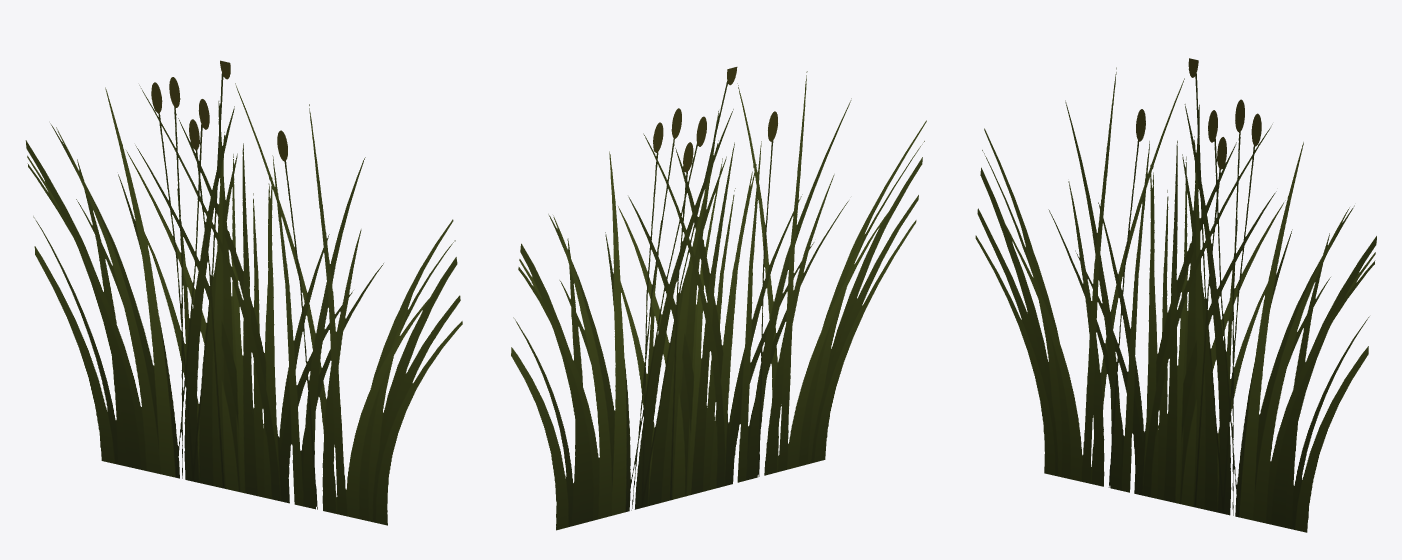
File: tall_grass_1_burnt3.glb
3 views of the same model, side by side, from view 1: azimuth 90°, elevation 25°; view 2: azimuth 150°, elevation 25°; view 3: azimuth 270°, elevation 25° (orthographic). The views are drawn at different scales.
Parts seen in each view (by area): view 1: tall_grass_1_burnt3; view 2: tall_grass_1_burnt3; view 3: tall_grass_1_burnt3.
Boxes of the visible parts, box(x1,y1,x2,y2) form: tall_grass_1_burnt3: box(25, 60, 462, 525); tall_grass_1_burnt3: box(511, 67, 926, 530); tall_grass_1_burnt3: box(975, 58, 1376, 532).
Bounding box in the file's own units: 0.5164 × 0.9163 × 0.8313.
Materials: 1 (1 with a texture image).
